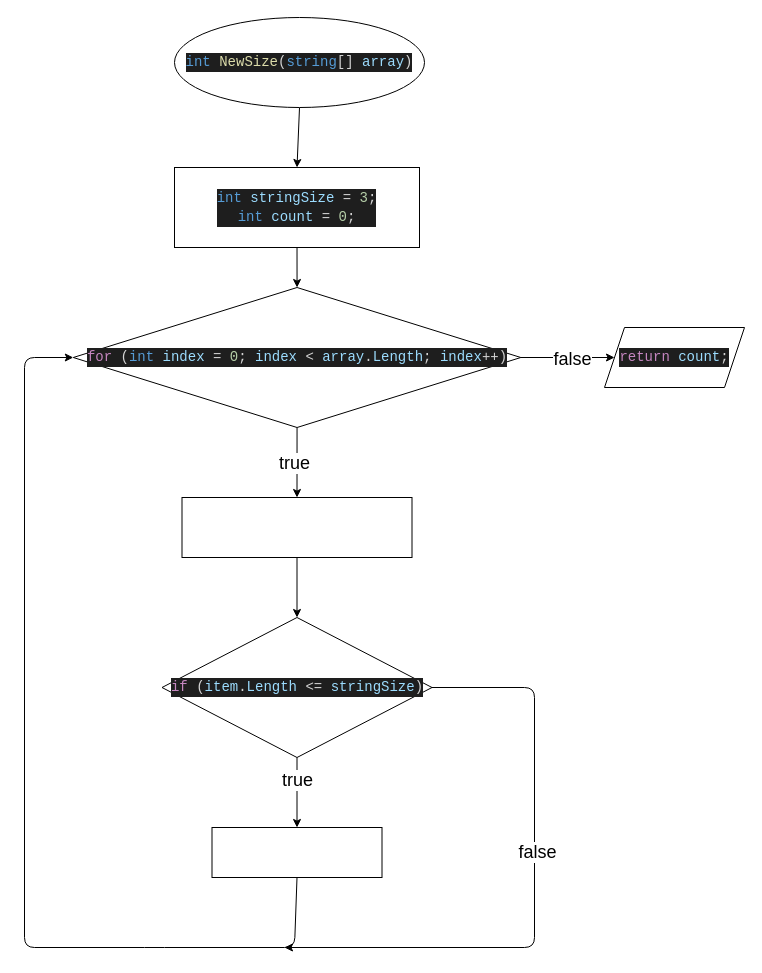
Image size: 762x973. Some labels were removed from this diagram. The shapes that lost their labels are listed below. From the top down, each one's box as (x1, y1, x2, y2) in pixels, then its label:
(181, 496, 412, 558): string item = array [ index ];
(211, 826, 382, 878): count ++
